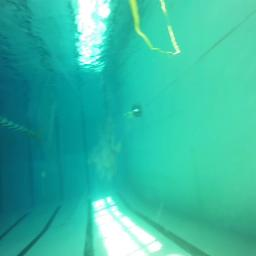Full: (132, 106, 143, 116)
